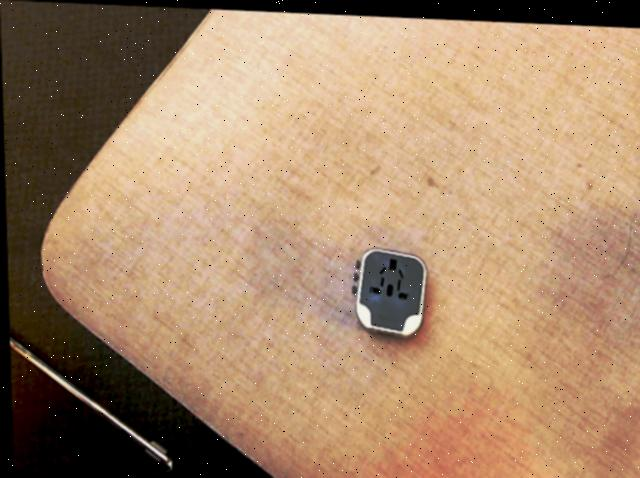adapter: (348, 243, 426, 336)
